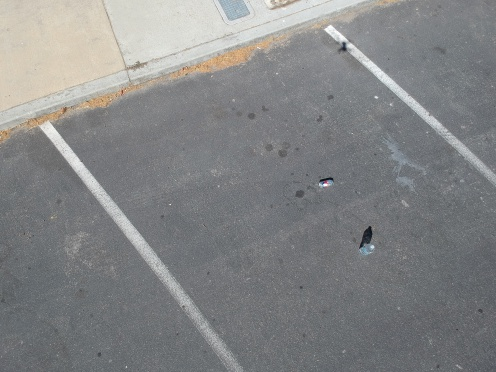bottle: (358, 240, 380, 261)
can: (311, 170, 336, 188)
